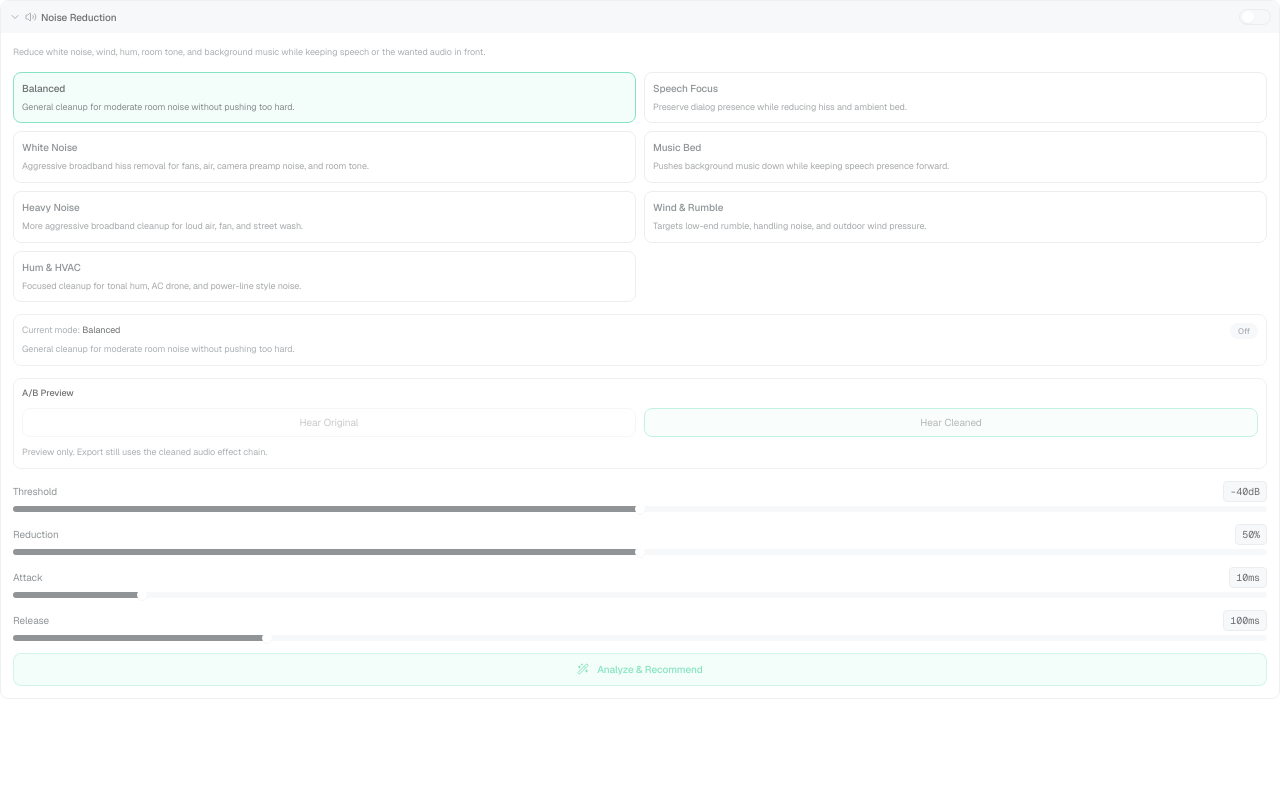
NoiseReductionSection persistence › auto-learns a profile when a preset is clicked directly
Click the button "White Noise": point(50, 148) [13, 131, 636, 183]
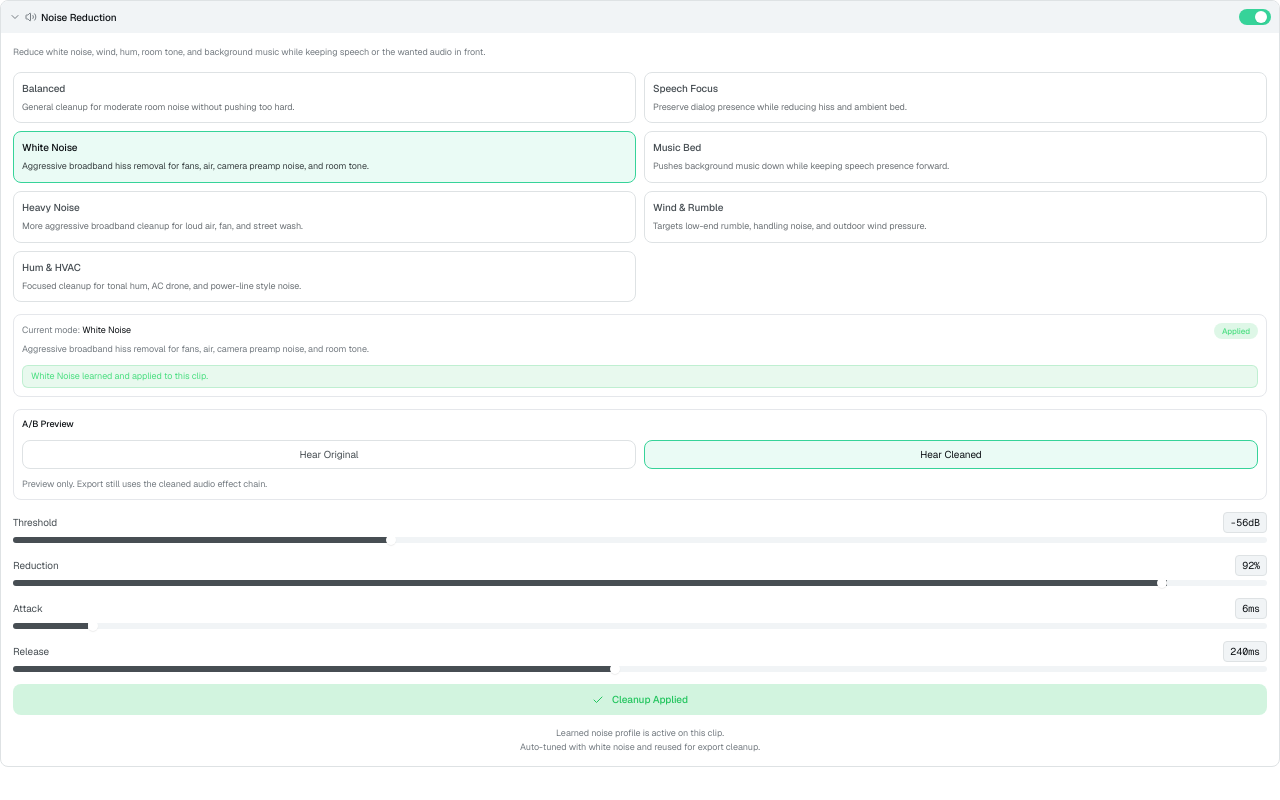
Result: the text "White Noise learned and applied to this clip." is shown at [31, 370, 208, 382]
